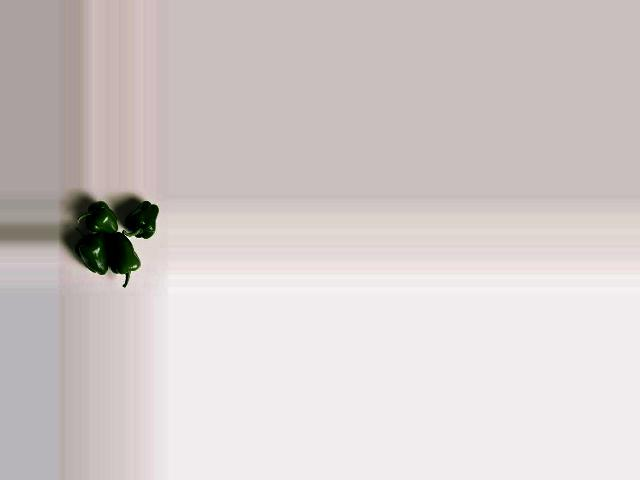bell_pepper: (78, 201, 120, 231)
